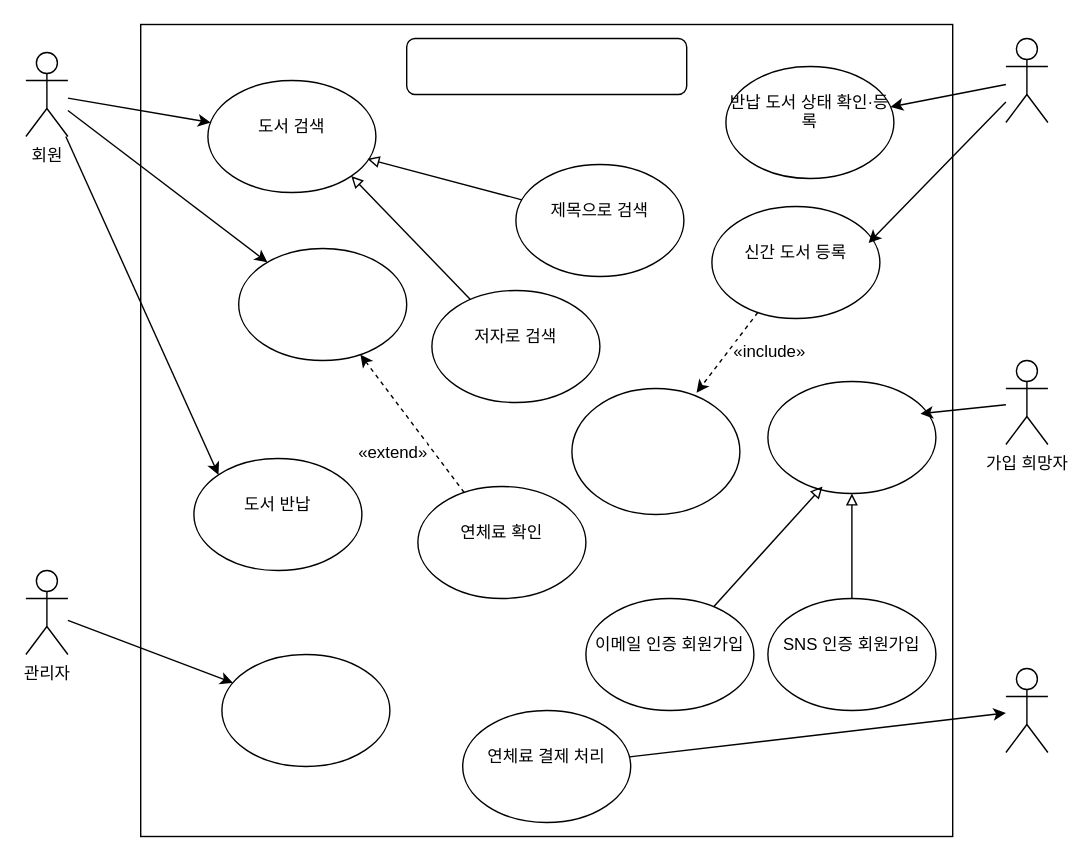
Image size: 1092x861. Some labels were removed from this diagram. Each missing label, with the centre of its shape:
결제 시스템: point 1026,709
도서 대출 신청: point 322,303
도서 바코드 생성: point 655,450
사서: point 1026,79
온라인 도서 대출 시스템: point 546,65
회원 정보 관리: point 305,709
회원가입: point 851,436
